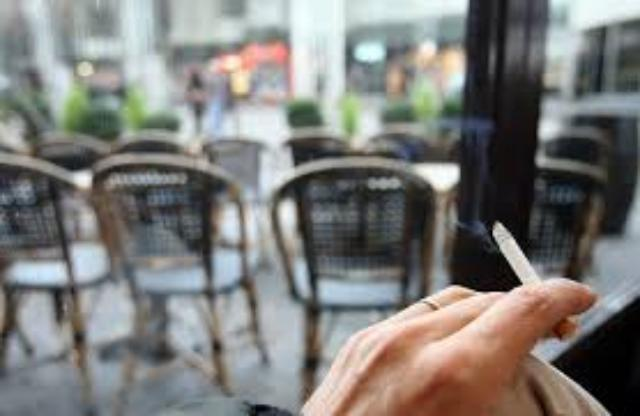Smoking: (492, 220, 576, 342)
